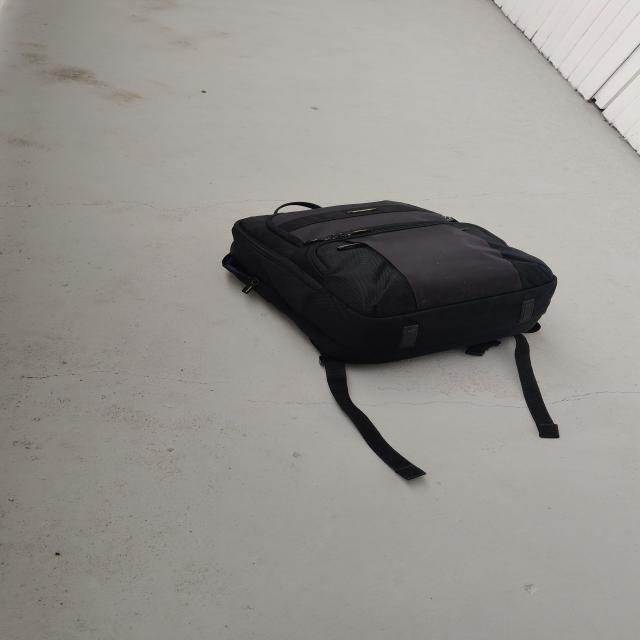backpack: (206, 193, 569, 374)
